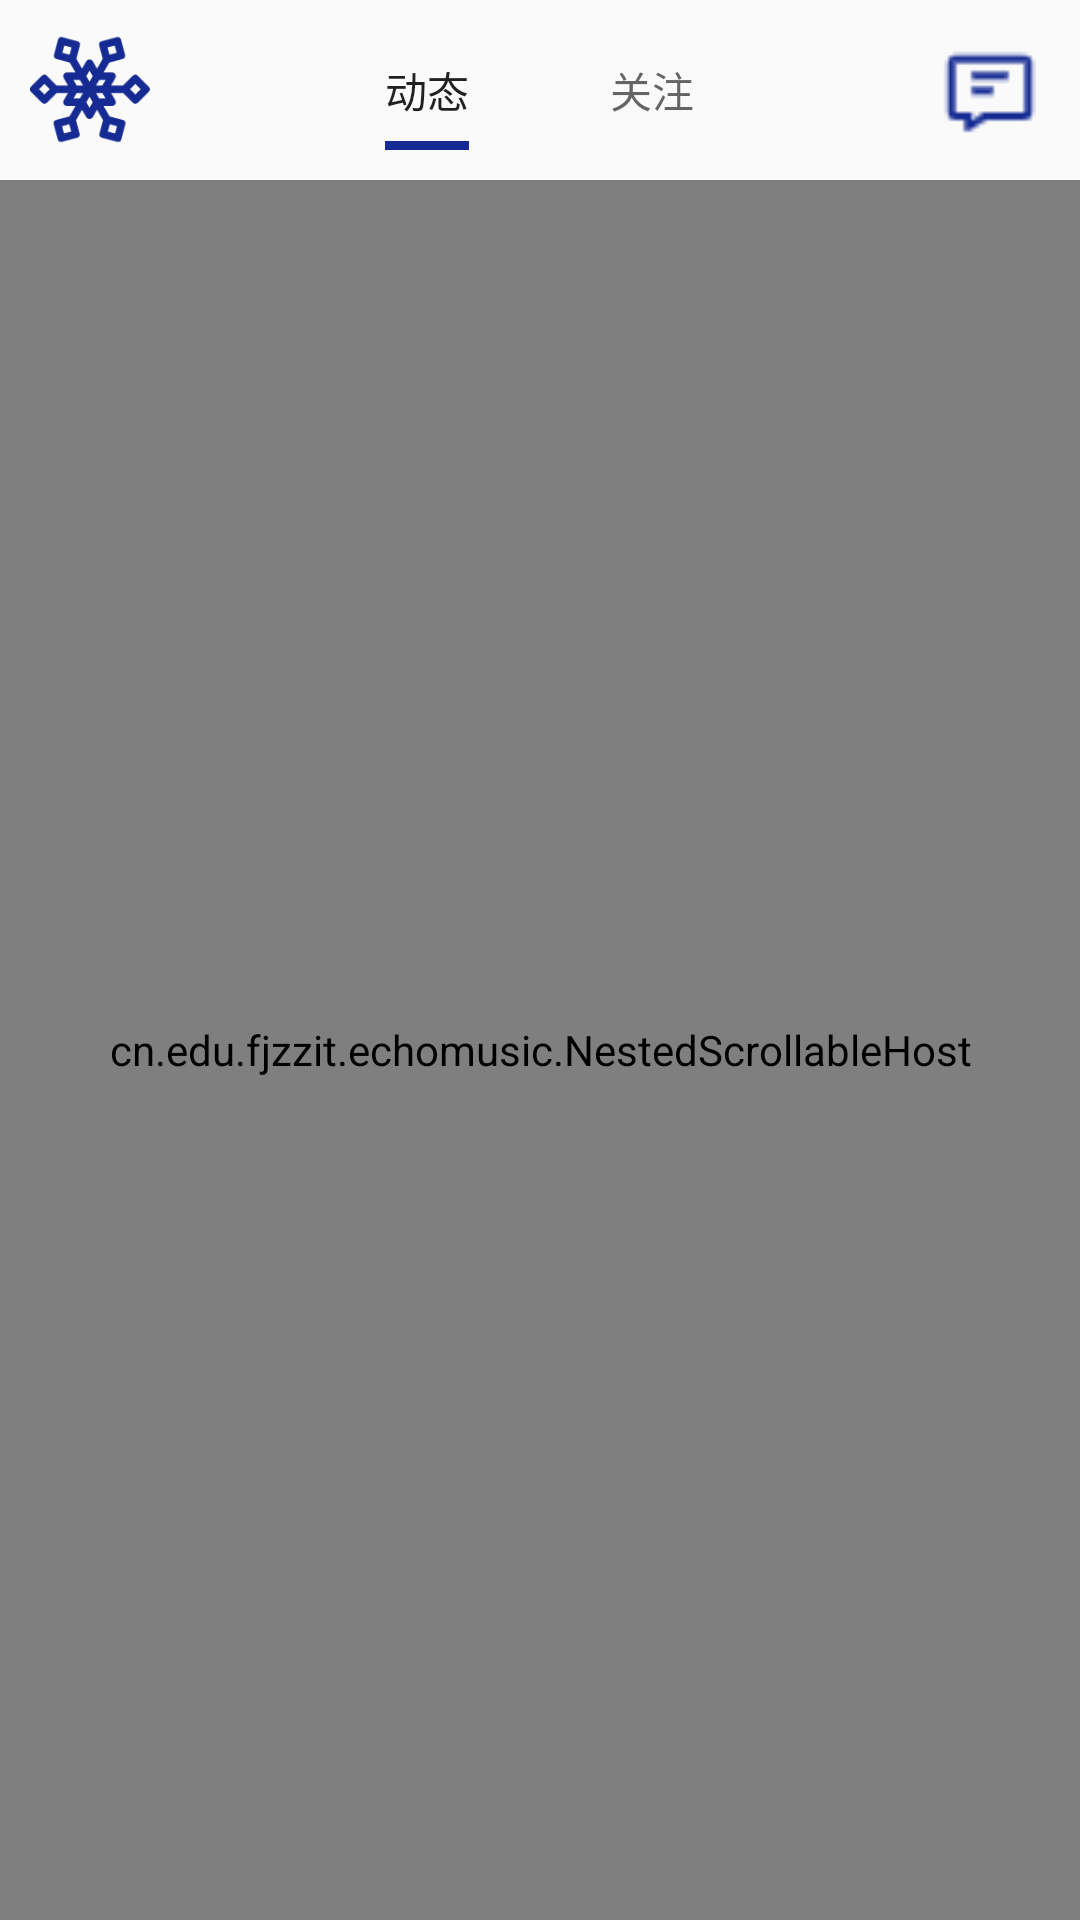

Named icons in this screenshot (1080 x 1920) and their bounding boxes, BBox(x1, y1, x2, y2):
comments: BBox(945, 52, 1035, 133)
